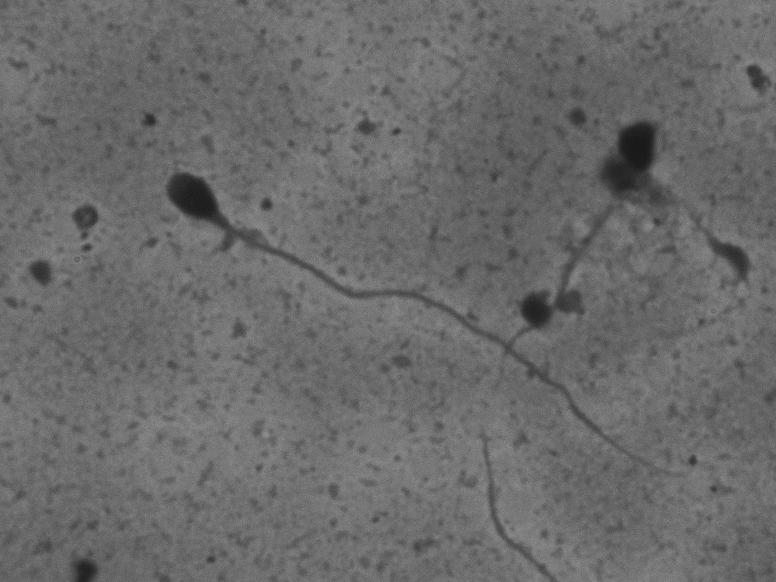Abnormal: (485, 77, 692, 363)
Normal: (147, 160, 699, 493)
